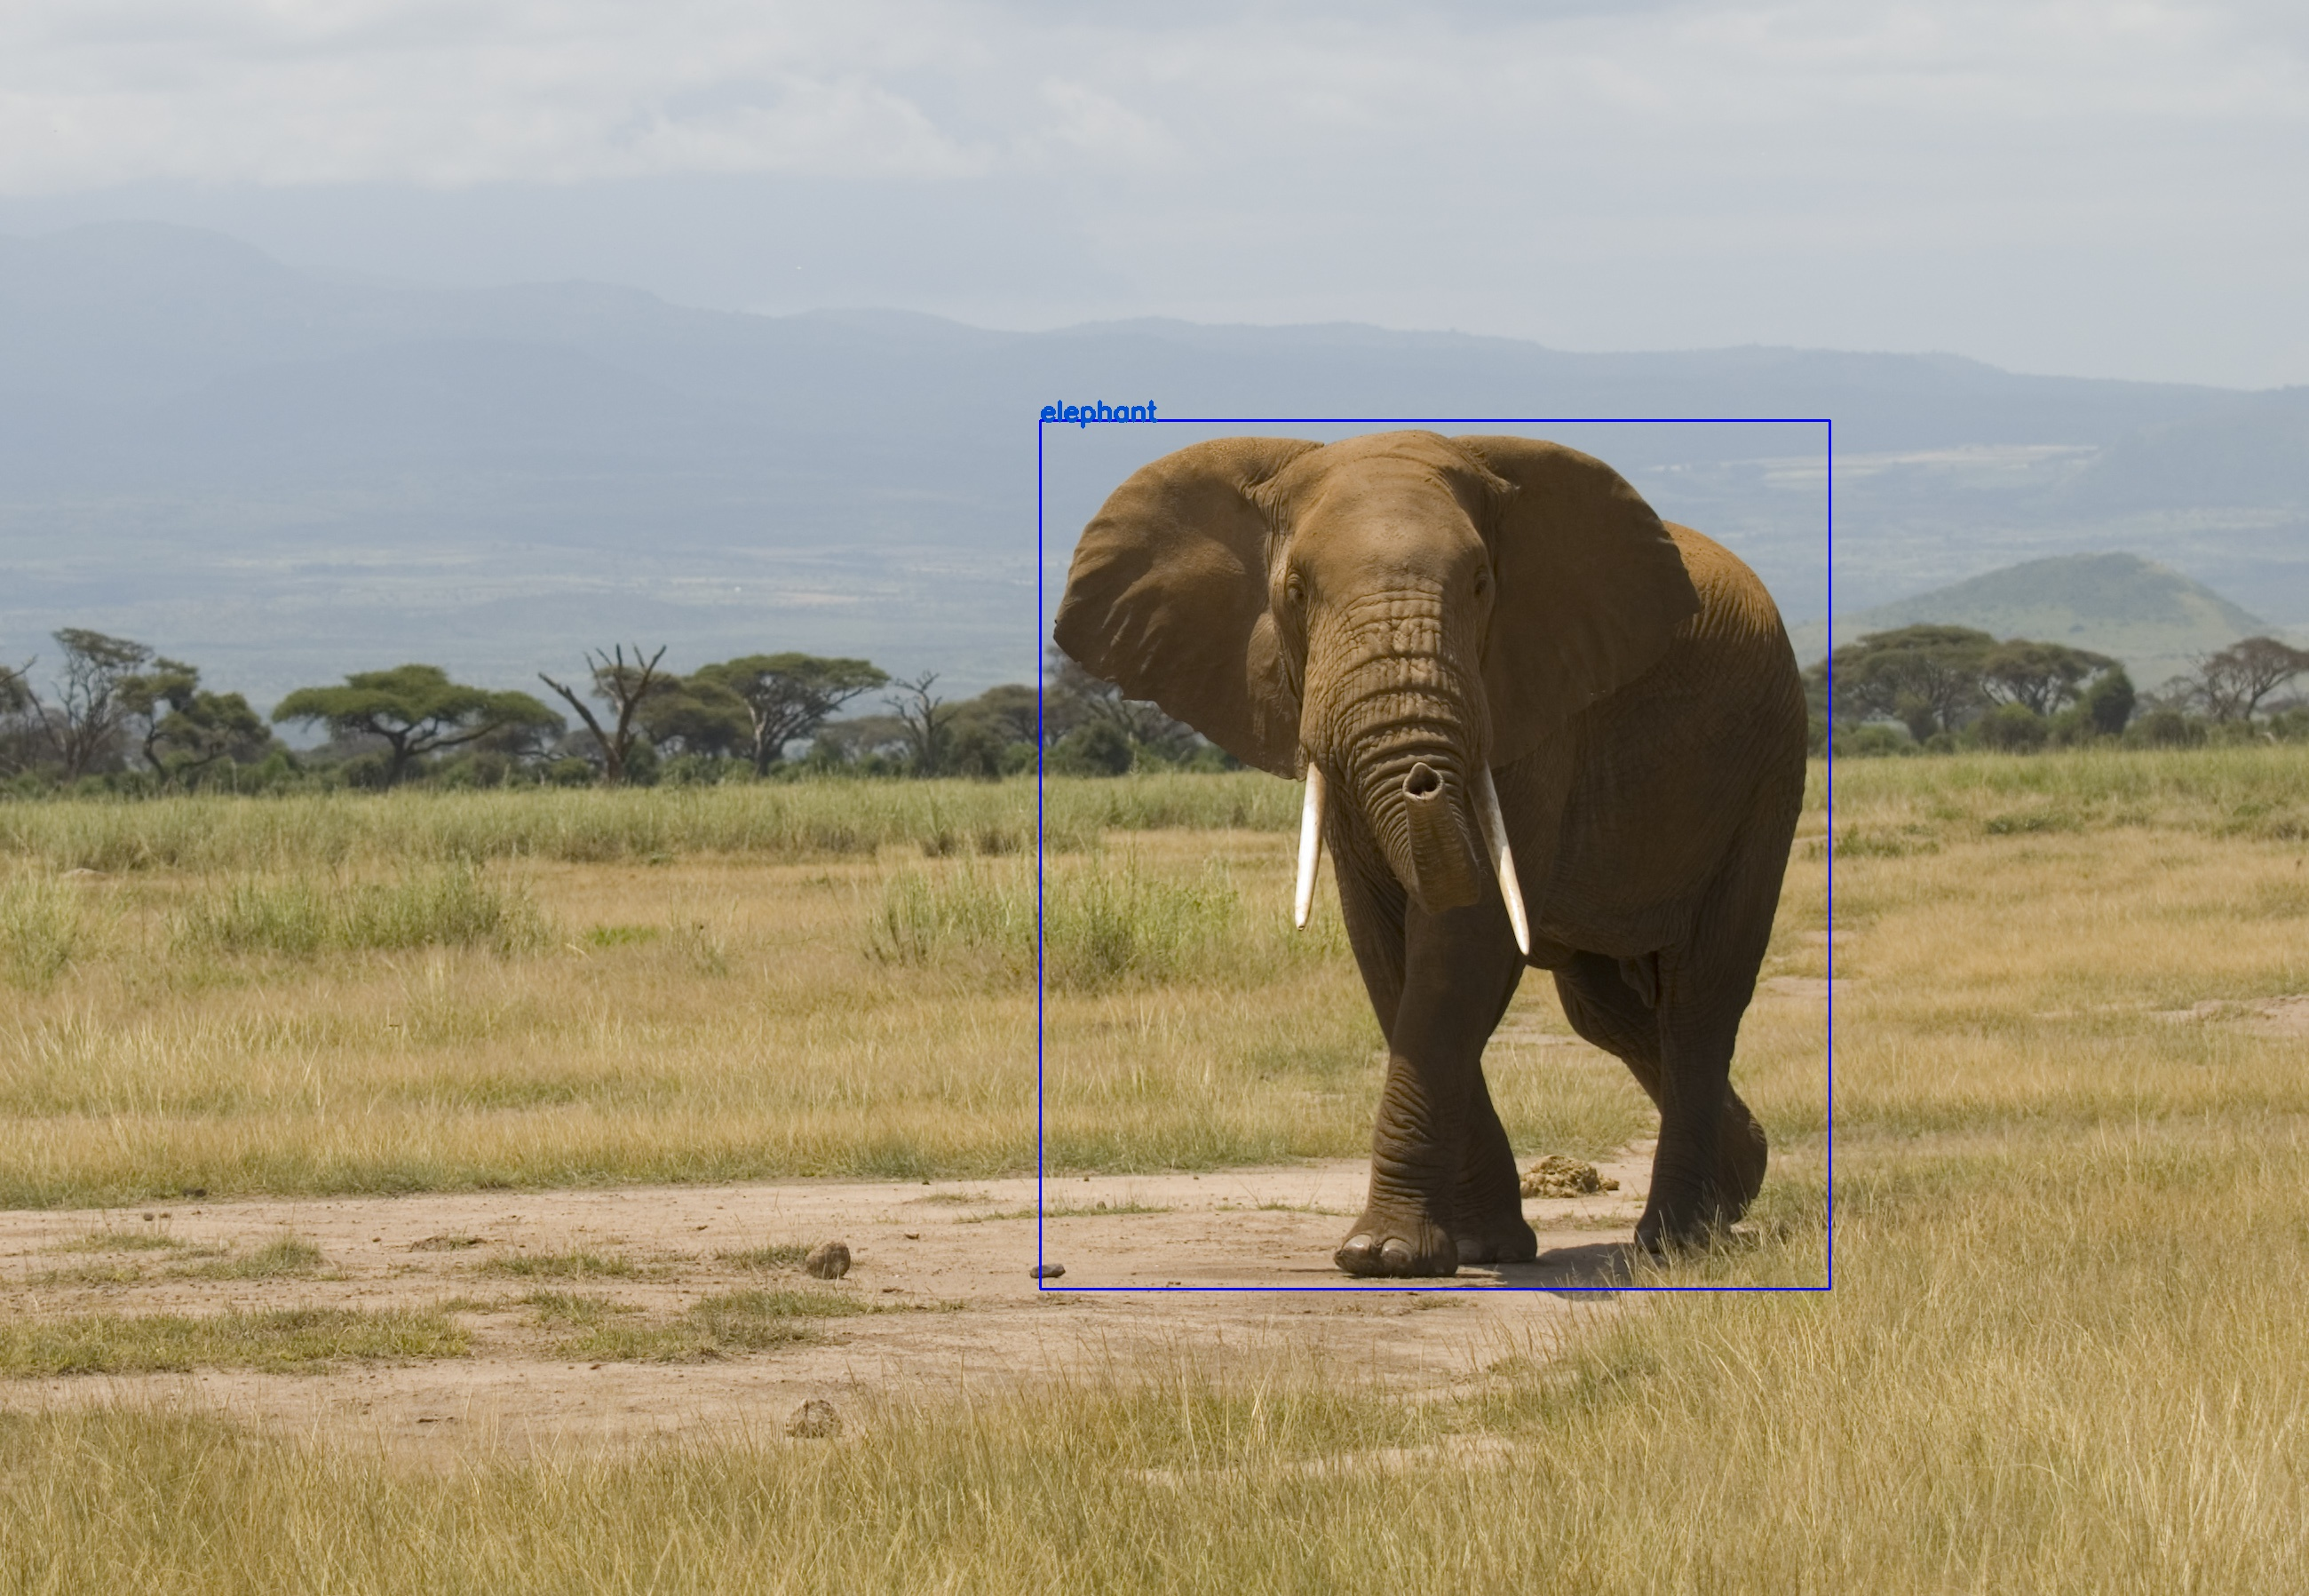elephant: (1039, 421, 1828, 1289)
